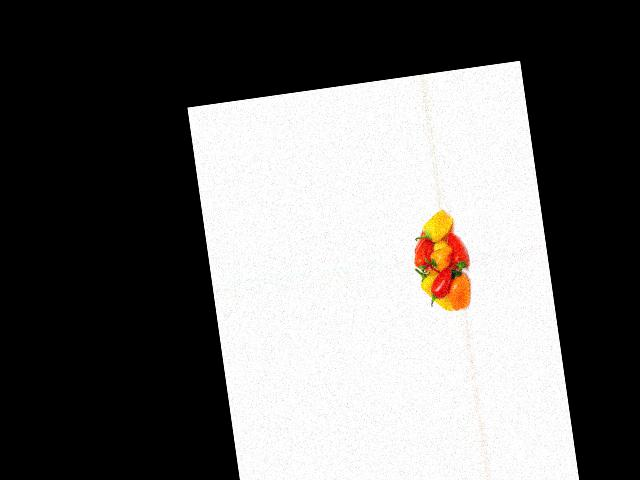bell_pepper: (416, 268, 452, 314)
